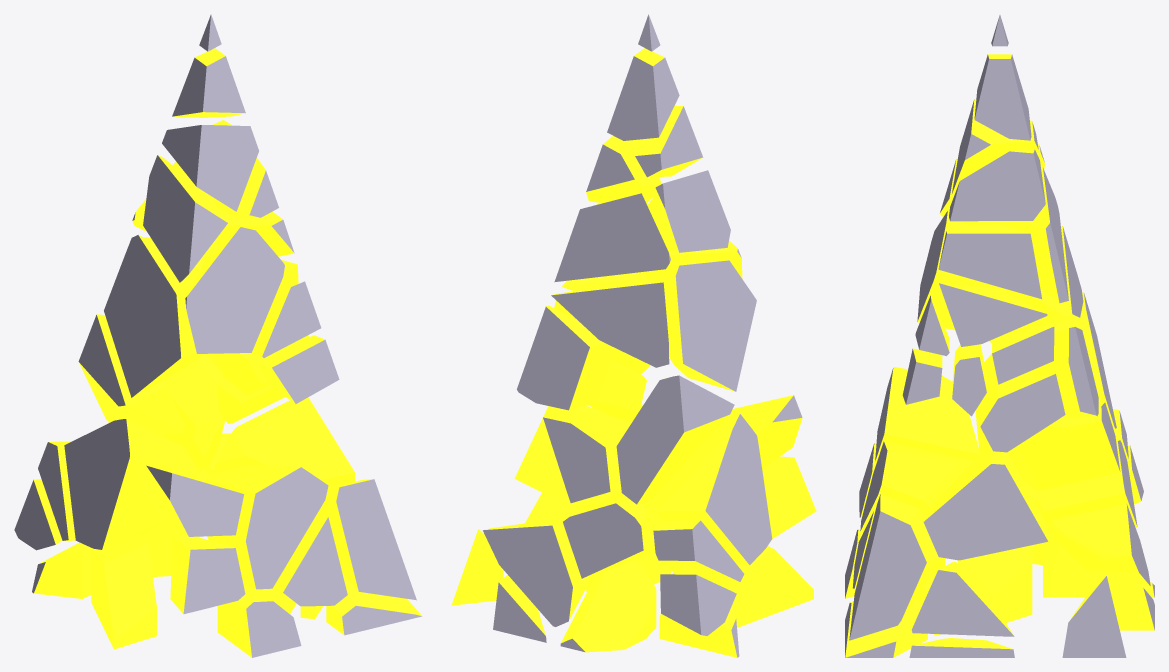
Rendered from BossAttack1.fbx.
The picture shows the model from 3 angles, left to right: view 1: azimuth 30°, elevation 25°; view 2: azimuth 150°, elevation 25°; view 3: azimuth 270°, elevation 25°; orthographic projection.
Parts seen in each view (by area): view 1: BossAttack1; view 2: BossAttack1; view 3: BossAttack1.
Boxes of the visible parts, box(x1,y1,x2,y2) form: BossAttack1: box(14, 14, 422, 657); BossAttack1: box(451, 14, 816, 657); BossAttack1: box(845, 15, 1154, 657).
Size of the model in its own units: 97.03 by 200 by 97.03.
